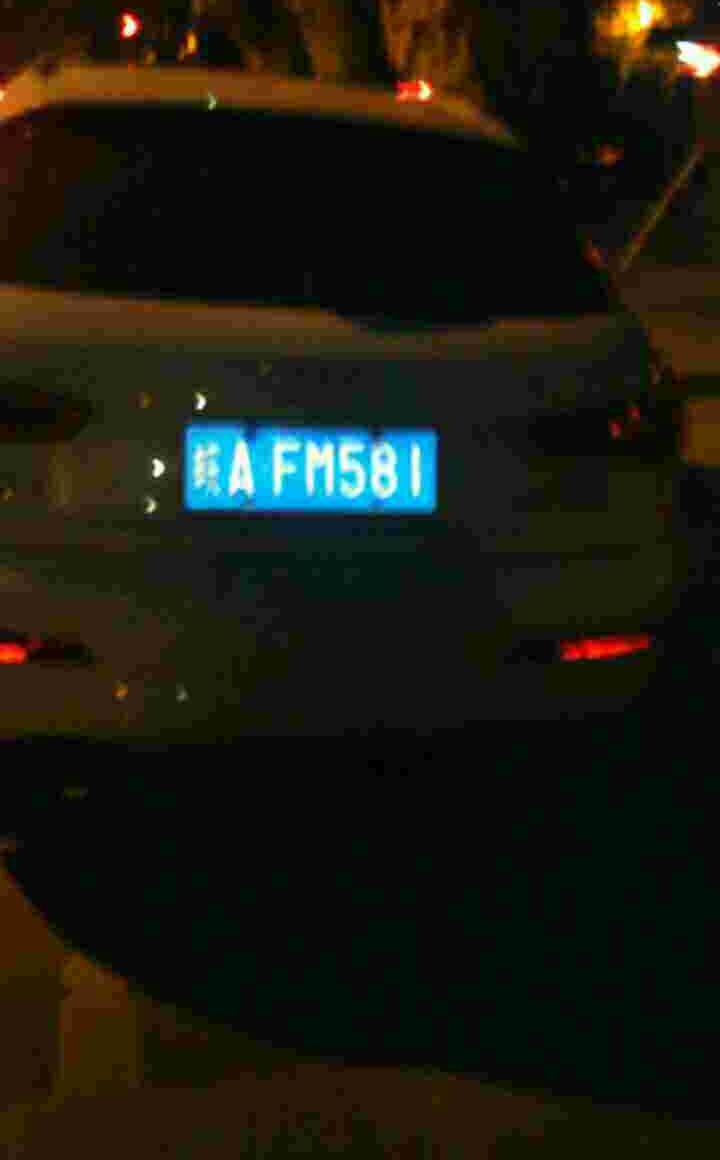car: (181, 416, 443, 512)
